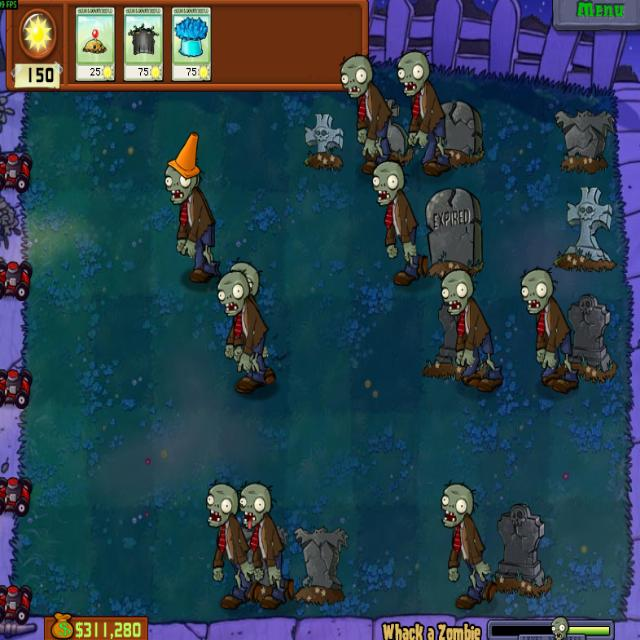conehead: (163, 130, 200, 204)
grave: (490, 500, 553, 598), (423, 185, 485, 279), (553, 186, 616, 274), (558, 290, 618, 382), (425, 298, 485, 381), (293, 523, 351, 605), (552, 107, 616, 174), (237, 521, 289, 600), (424, 99, 484, 167), (364, 99, 412, 166), (301, 108, 345, 171)
gravebuster: (122, 6, 164, 83)
zombie: (337, 50, 378, 101), (518, 265, 558, 316), (439, 481, 477, 530), (396, 49, 431, 100), (238, 481, 274, 530), (203, 481, 240, 527), (372, 161, 408, 205), (216, 268, 247, 317), (226, 262, 262, 300)
